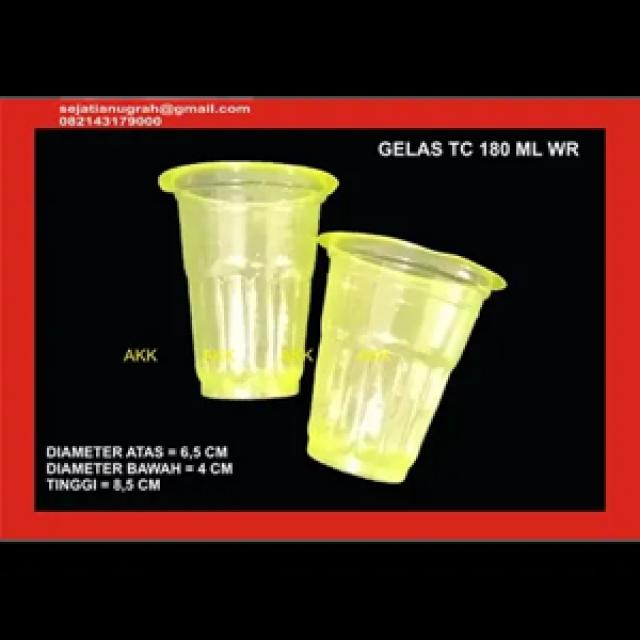plastic cup: (299, 220, 516, 493), (152, 158, 342, 414)
